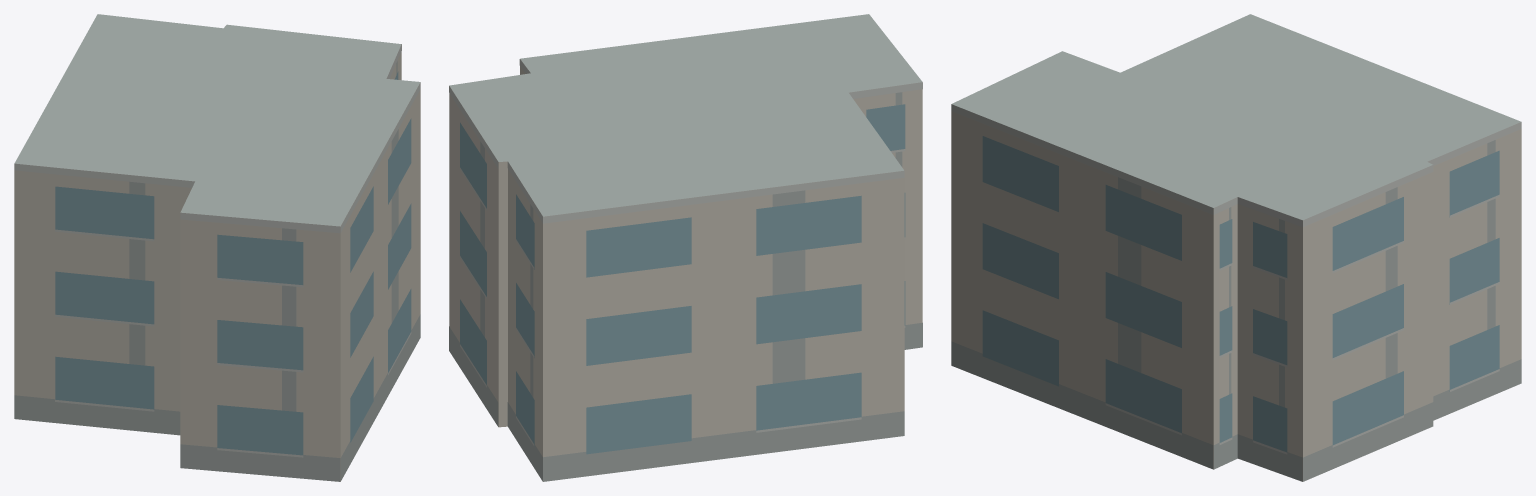
The model's file is survey-upis-33024096.glb.
3 renders of one model, left to right at view 1: azimuth 30°, elevation 25°; view 2: azimuth 150°, elevation 25°; view 3: azimuth 270°, elevation 25°, orthographic. The views are drawn at different scales.
Visible parts, largest first — view 1: survey-upis-33024096.tmp; view 2: survey-upis-33024096.tmp; view 3: survey-upis-33024096.tmp.
Boxes of the visible parts, x1,y1,x2,y2 form: survey-upis-33024096.tmp: (14,14,420,481); survey-upis-33024096.tmp: (449,14,922,481); survey-upis-33024096.tmp: (951,14,1521,481).
Bounding box in the file's own units: 15.49 × 9.15 × 18.09.
